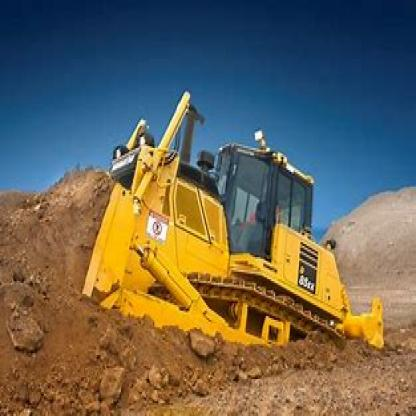bull_dozer/loader/grader: (56, 74, 384, 390)
